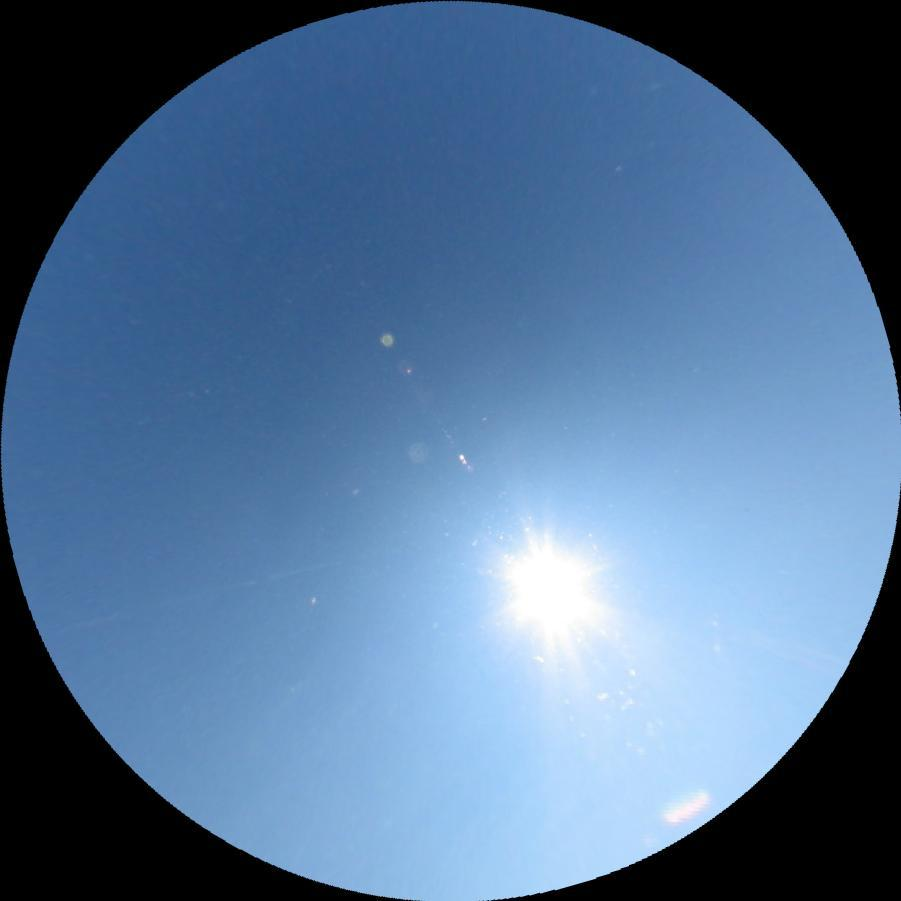sun: (485, 517, 614, 664)
